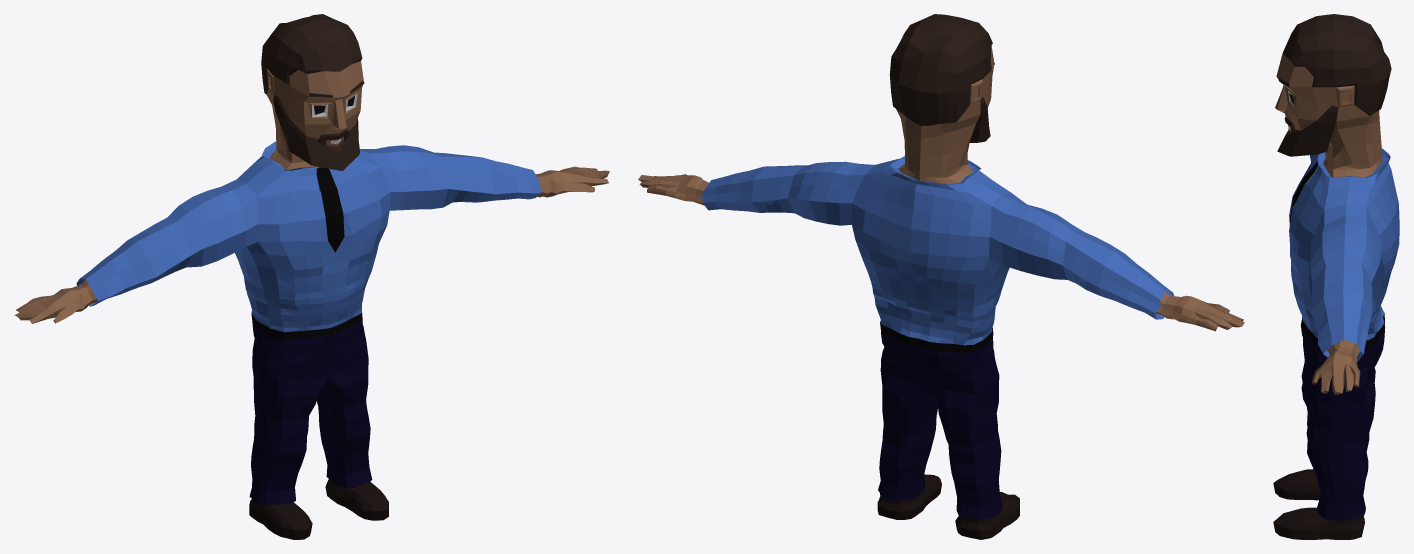
Rendered from policajac 3.fbx.
3 renders of one model, left to right at view 1: azimuth 30°, elevation 25°; view 2: azimuth 150°, elevation 25°; view 3: azimuth 270°, elevation 25°, orthographic.
Visible parts, largest first — view 1: ROBA.002, LIK1.001; view 2: ROBA.002, LIK1.001; view 3: ROBA.002, LIK1.001.
Boxes of the visible parts, x1,y1,x2,y2 form: ROBA.002: [76, 141, 541, 505]; LIK1.001: [14, 14, 609, 539]; ROBA.002: [701, 156, 1174, 520]; LIK1.001: [638, 14, 1244, 539]; ROBA.002: [1289, 148, 1399, 520]; LIK1.001: [1273, 14, 1391, 539].
Size of the model in its own units: 1350 by 1064 by 247.
